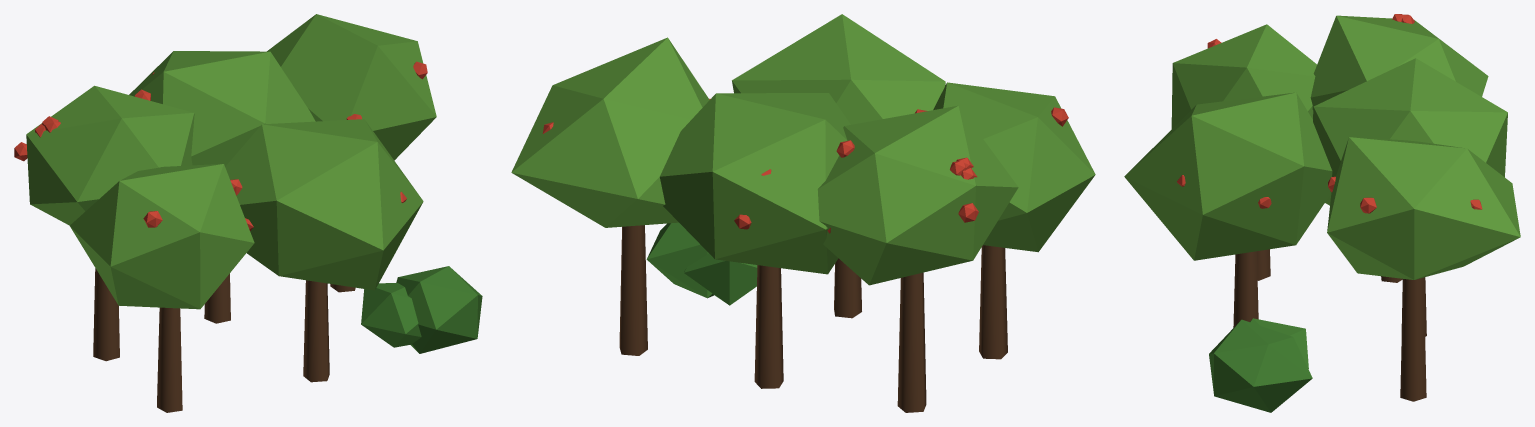
The model's file is sawyer_orchard_c.glb.
3 views of the same model, side by side, from view 1: azimuth 30°, elevation 25°; view 2: azimuth 150°, elevation 25°; view 3: azimuth 270°, elevation 25° (orthographic). The views are drawn at different scales.
Parts seen in each view (by area): view 1: fruit_4_crown, fruit_3_crown, fruit_0_crown, fruit_2_crown, fruit_1_crown, bush_5_leaves0, bush_5_leaves1, fruit_3_trunk, fruit_4_trunk, fruit_0_trunk, fruit_1_trunk; view 2: fruit_1_crown, fruit_0_crown, fruit_2_crown, fruit_3_crown, fruit_4_crown, fruit_0_trunk, fruit_2_trunk, fruit_1_trunk, fruit_3_trunk, bush_5_leaves0, bush_5_leaves1, fruit_4_trunk; view 3: fruit_4_crown, fruit_2_crown, fruit_1_crown, fruit_3_crown, fruit_0_crown, bush_5_leaves0, fruit_2_trunk, fruit_4_trunk, bush_5_leaves1, fruit_3_trunk.
Boxes of the visible parts, <box> form: fruit_4_crown: <box>225,119,423,290</box>; fruit_3_crown: <box>70,164,254,309</box>; fruit_0_crown: <box>26,85,194,225</box>; fruit_2_crown: <box>267,14,436,160</box>; fruit_1_crown: <box>129,51,315,166</box>; bush_5_leaves0: <box>396,266,482,353</box>; bush_5_leaves1: <box>361,283,421,347</box>; fruit_3_trunk: <box>157,307,182,412</box>; fruit_4_trunk: <box>303,280,329,382</box>; fruit_0_trunk: <box>93,268,119,361</box>; fruit_1_trunk: <box>204,273,230,323</box>; fruit_1_crown: <box>660,93,850,274</box>; fruit_0_crown: <box>817,105,1018,285</box>; fruit_2_crown: <box>511,37,709,227</box>; fruit_3_crown: <box>933,82,1095,252</box>; fruit_4_crown: <box>732,14,945,124</box>; fruit_0_trunk: <box>897,272,926,412</box>; fruit_2_trunk: <box>619,225,647,355</box>; fruit_1_trunk: <box>754,265,783,388</box>; fruit_3_trunk: <box>979,245,1007,359</box>; bush_5_leaves0: <box>646,222,714,298</box>; bush_5_leaves1: <box>684,253,757,305</box>; fruit_4_trunk: <box>834,258,861,318</box>; fruit_4_crown: <box>1124,92,1332,260</box>; fruit_2_crown: <box>1327,137,1520,279</box>; fruit_1_crown: <box>1313,58,1507,205</box>; fruit_3_crown: <box>1171,24,1316,128</box>; fruit_0_crown: <box>1310,15,1488,110</box>; bush_5_leaves0: <box>1209,319,1312,412</box>; fruit_2_trunk: <box>1400,277,1426,401</box>; fruit_4_trunk: <box>1233,251,1258,327</box>; bush_5_leaves1: <box>1250,318,1308,368</box>; fruit_3_trunk: <box>1257,249,1270,280</box>.
Size of the model in its own units: 3.3 by 2.07 by 2.87.
